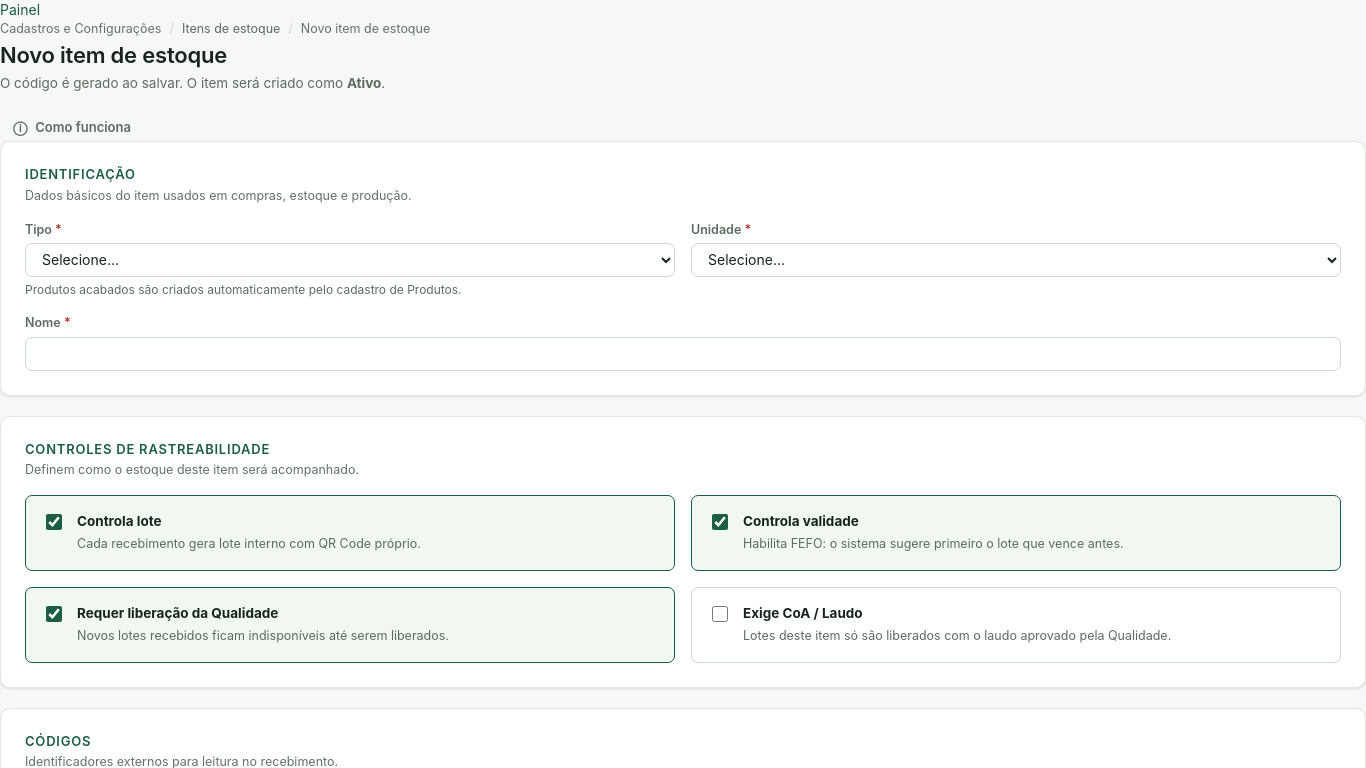
Test: Item novo — guarda de alterações não salvas › desfazer a digitação devolve a saída livre
Expected: the heading "Novo item de estoque" is shown, [0,42,227,68]
Type "Creatina" into the field with id "item-name".
click(683, 354); type("Creatina")  # box [25,336,1341,370]
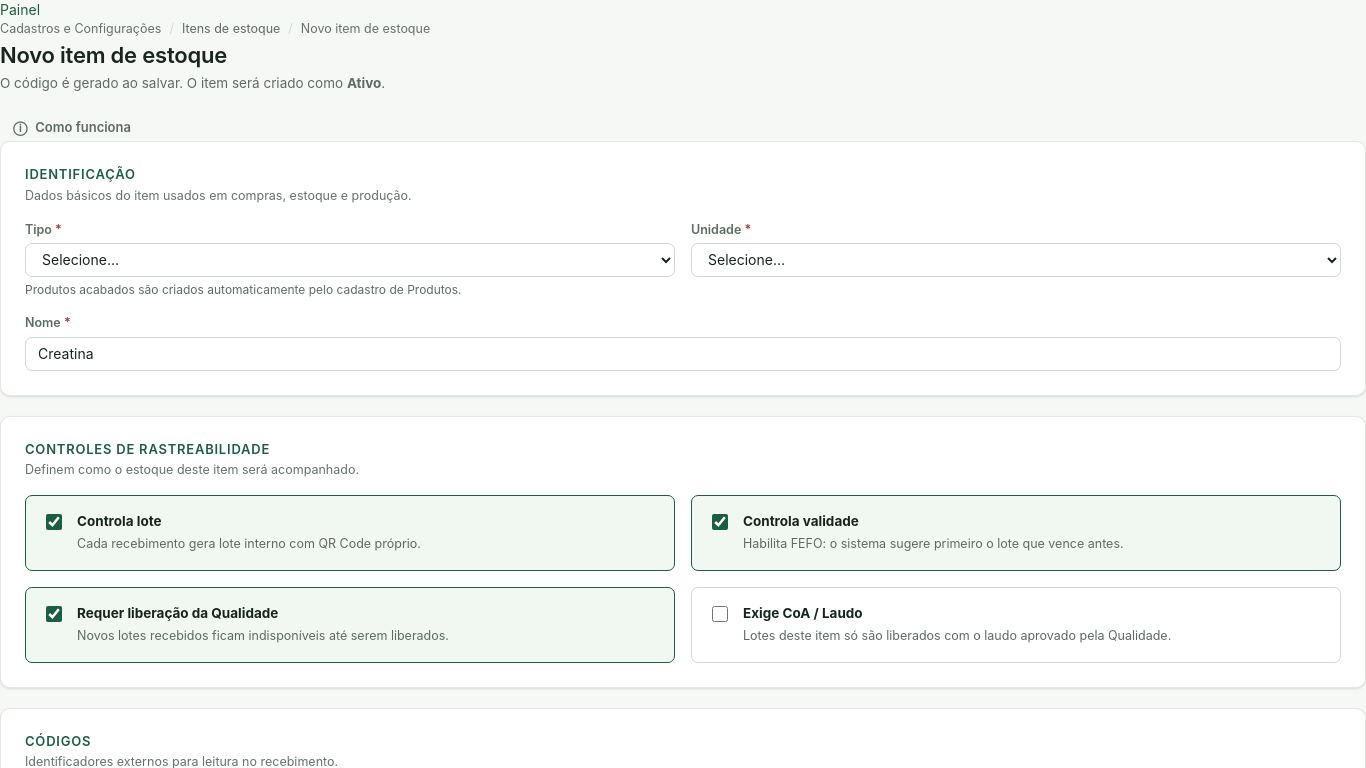
Clear the field with id "item-name" at {"x": 683, "y": 354}, box [25,336,1341,370]
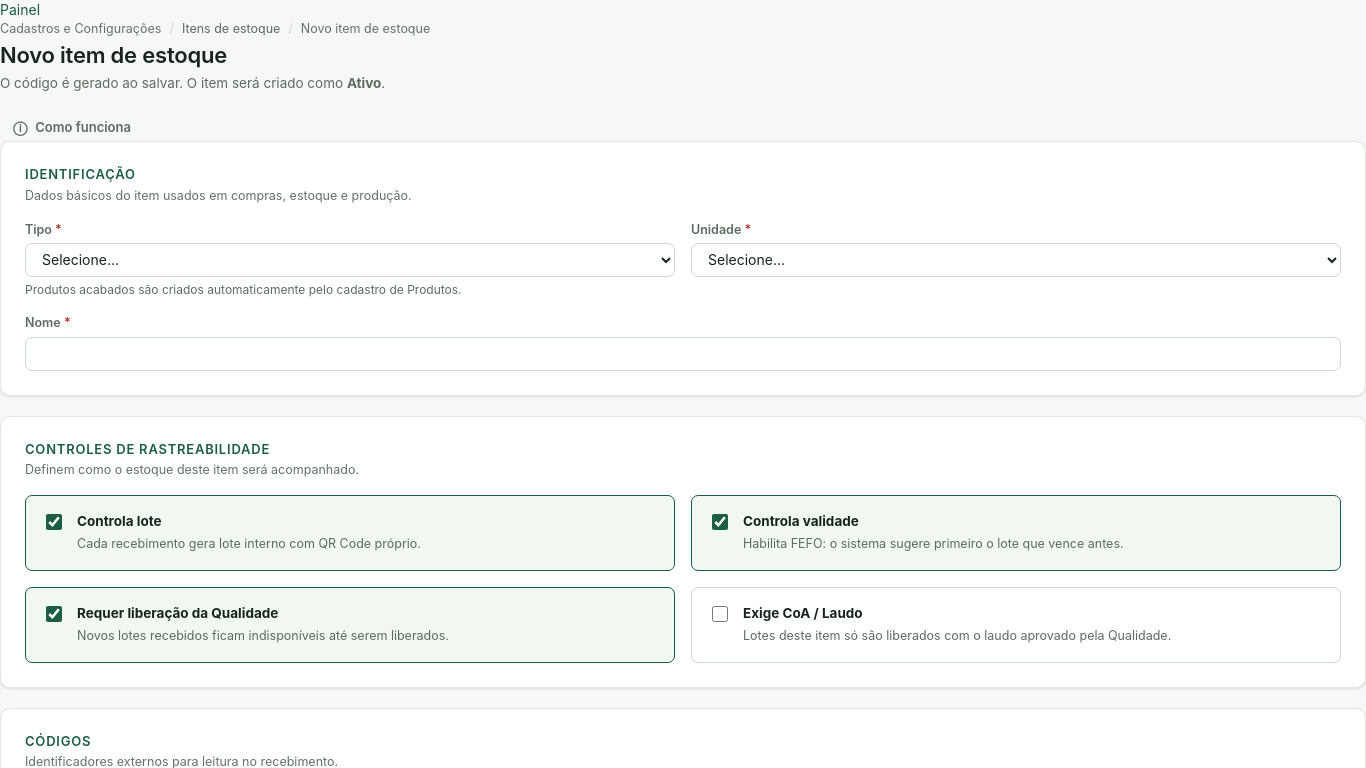
Click the link "Painel".
click(20, 10)  # box [0,1,40,18]
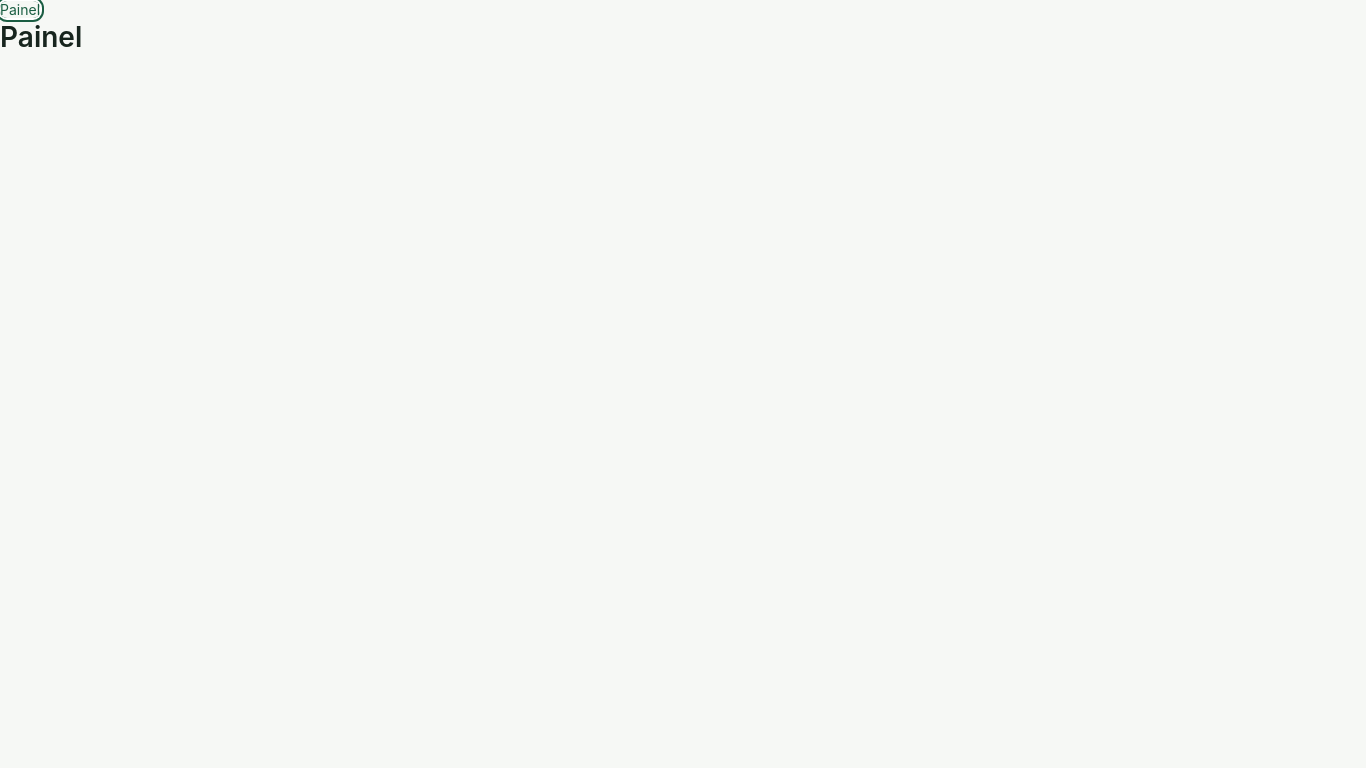
Now the heading "Painel" is shown, box [0,20,82,54]
